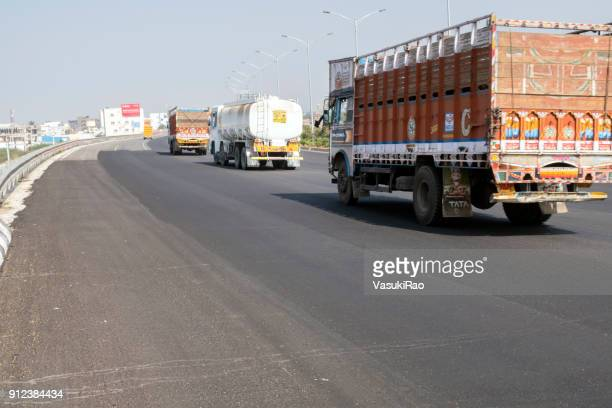truck: (331, 19, 610, 231), (221, 98, 302, 168), (172, 107, 209, 156), (143, 122, 152, 142)
